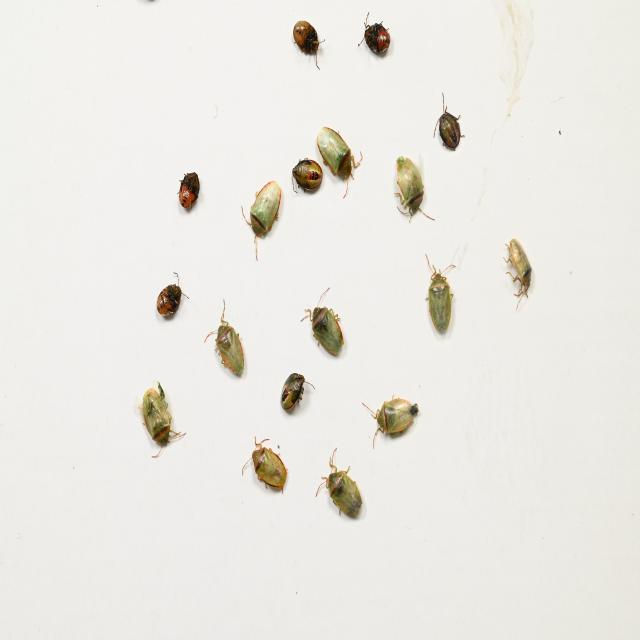stinkbug: (135, 382, 187, 458), (312, 450, 363, 527), (202, 299, 246, 383), (316, 123, 362, 200), (241, 177, 282, 263), (299, 286, 344, 358), (390, 154, 436, 223), (424, 254, 456, 334), (501, 236, 531, 311)
